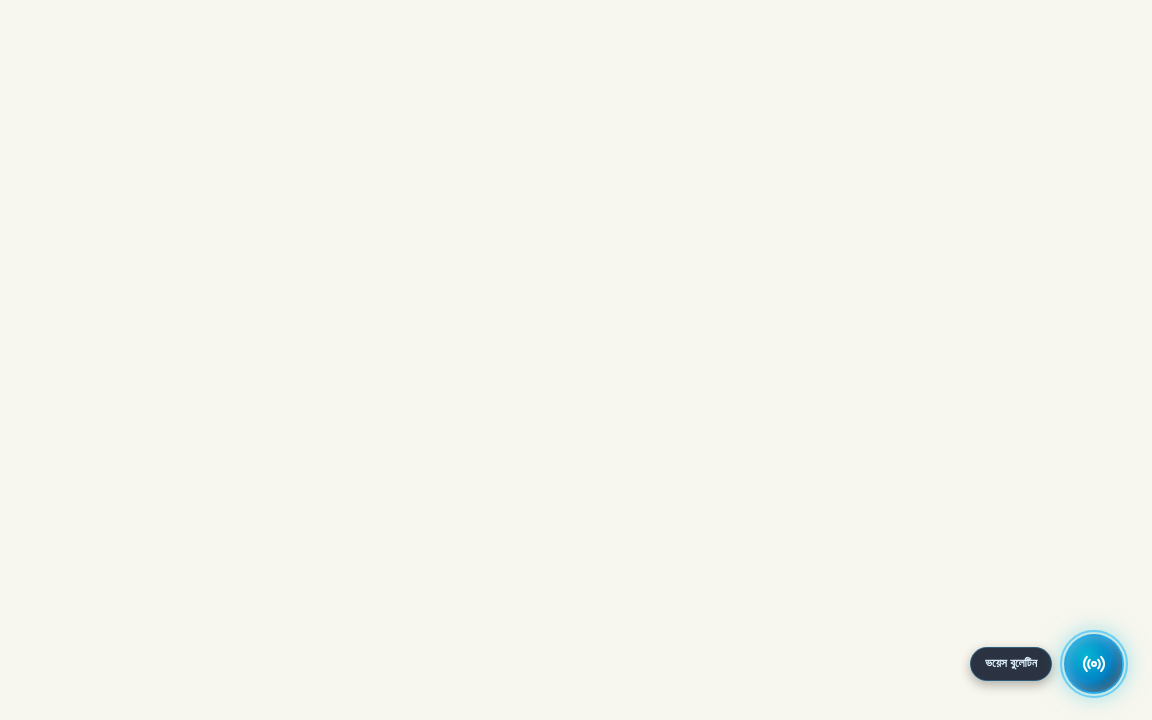
Test: VoiceNotificationOrb Component & Futuristic HUD › opens futuristic HUD modal when orb is clicked and shows 4 categories
The image size is (1152, 720).
Click the button named "ভয়েস নোটিফিকেশন শুনুন": (1094, 664) [1064, 634, 1124, 694]
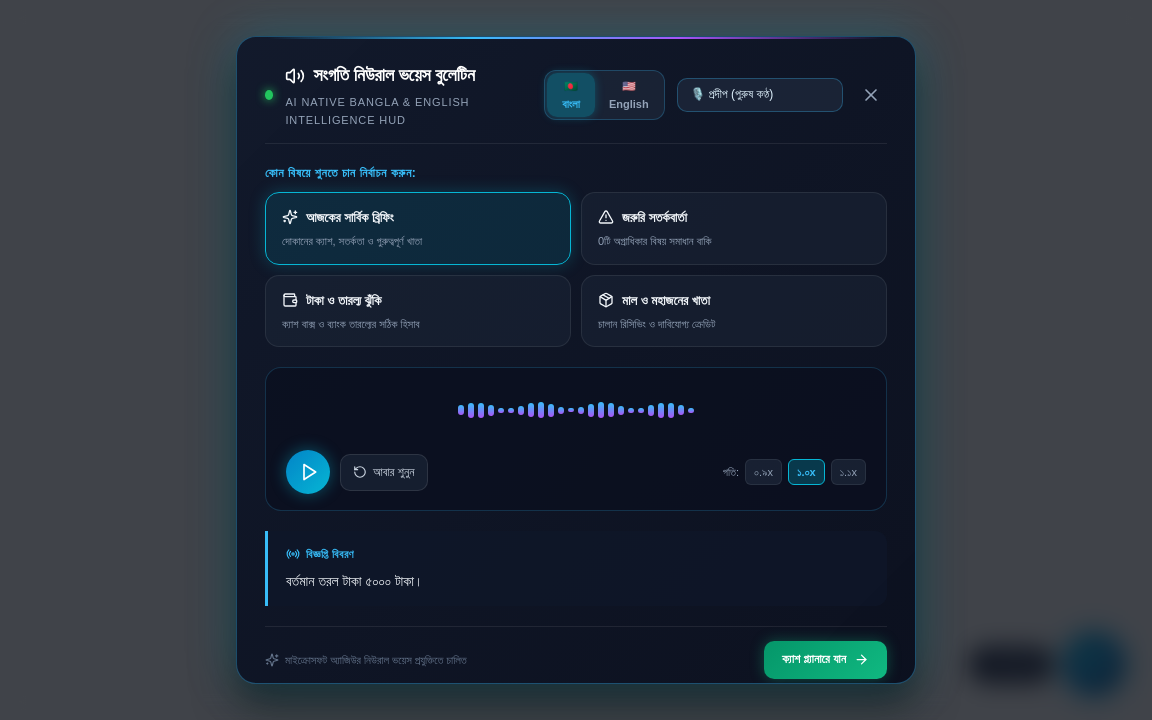
Check: the dialog named "সংগতি ভয়েস বুলেটিন" is shown, box [236, 36, 916, 684]
Check: the heading "সংগতি নিউরাল ভয়েস বুলেটিন" is shown, box [285, 65, 475, 86]
Check: the text "আজকের সার্বিক ব্রিফিং" is shown, box [306, 207, 394, 228]
